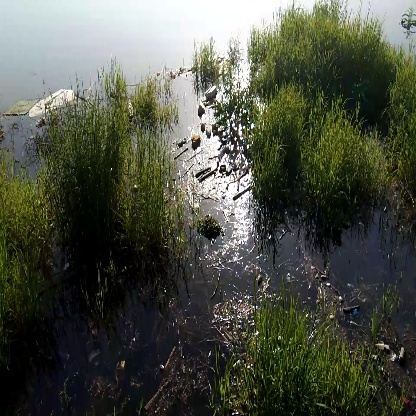plastic-bag: (30, 79, 80, 122)
